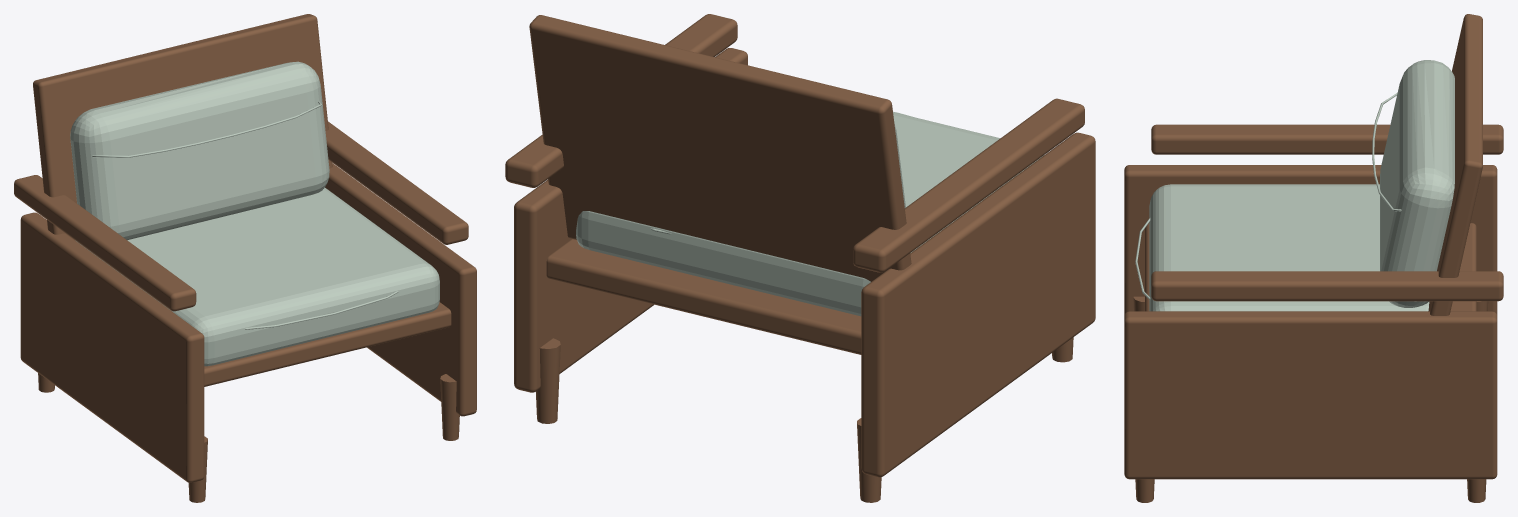
The model's file is chair-1-0.glb.
The picture shows the model from 3 angles, left to right: view 1: azimuth 30°, elevation 25°; view 2: azimuth 150°, elevation 25°; view 3: azimuth 270°, elevation 25°; orthographic projection. The views are drawn at different scales.
Visible parts, largest first — view 1: part, tailored-cushion; view 2: part, tailored-cushion; view 3: part, tailored-cushion.
Part boxes in pixels (bbox=[...]): part: bbox=[14, 14, 476, 502]; tailored-cushion: bbox=[70, 61, 439, 366]; part: bbox=[505, 14, 1095, 502]; tailored-cushion: bbox=[576, 111, 1043, 316]; part: bbox=[1124, 14, 1503, 502]; tailored-cushion: bbox=[1135, 60, 1454, 311].
Bounding box in the file's own units: 1 × 1 × 1.
